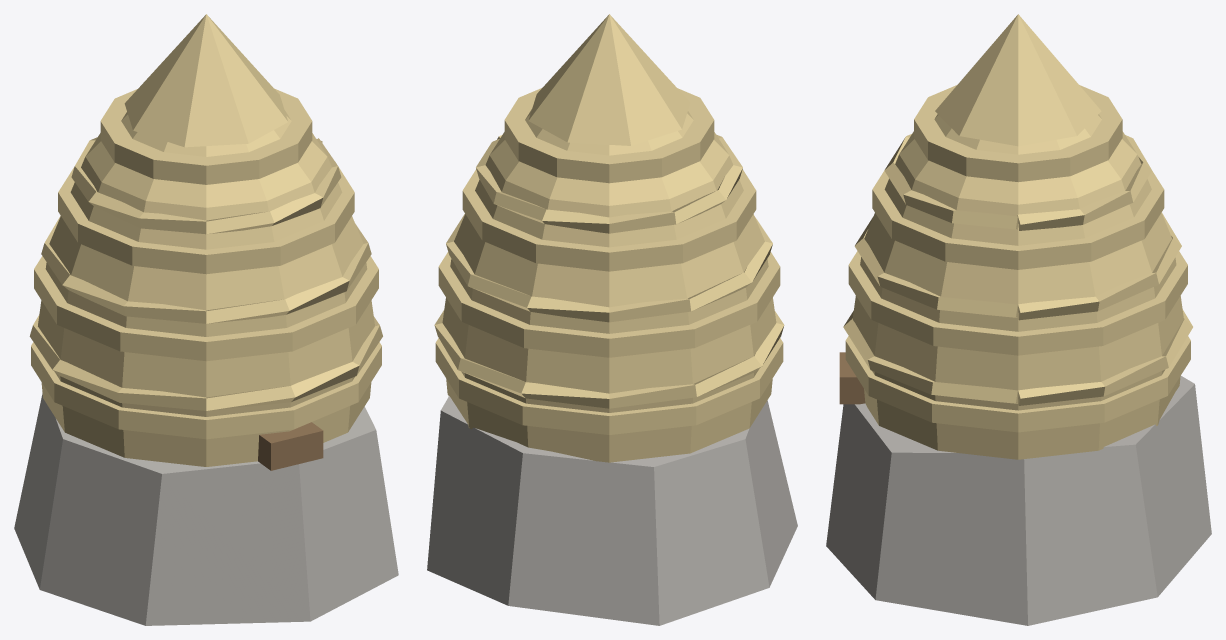
File: building_bee_skep_half.glb
3 views of the same model, side by side, from view 1: azimuth 30°, elevation 25°; view 2: azimuth 150°, elevation 25°; view 3: azimuth 270°, elevation 25° (orthographic).
Visible parts, largest first — view 1: building_bee_skep_half; view 2: building_bee_skep_half; view 3: building_bee_skep_half.
Part boxes in pixels (box(x1,y1,x2,y2)): building_bee_skep_half: box(14, 14, 398, 625); building_bee_skep_half: box(427, 14, 797, 625); building_bee_skep_half: box(826, 14, 1211, 625).
Size of the model in its own units: 0.6428 by 0.98 by 0.6477.
